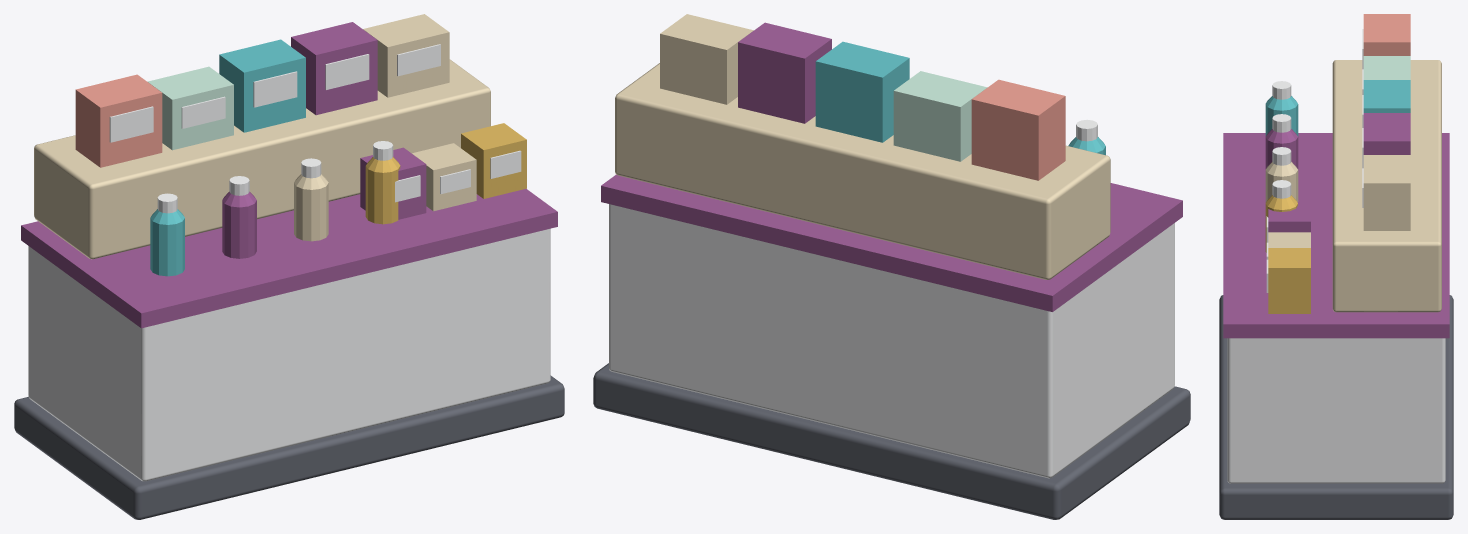
File: pharmacy-and-high-street-chemist-window-display-plinth-a9d57326__37497.glb
3 renders of one model, left to right at view 1: azimuth 30°, elevation 25°; view 2: azimuth 150°, elevation 25°; view 3: azimuth 270°, elevation 25°, orthographic. The views are drawn at different scales.
Parts seen in each view (by area): view 1: window-display-plinth; view 2: window-display-plinth; view 3: window-display-plinth.
Part boxes in pixels (x1,y1,x2,y2): window-display-plinth: (14,14,564,519); window-display-plinth: (593,14,1190,519); window-display-plinth: (1219,14,1453,519).
Bounding box in the file's own units: 1.2 × 0.93 × 0.6001.
